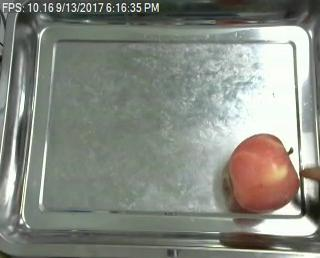apple: (224, 133, 301, 211)
